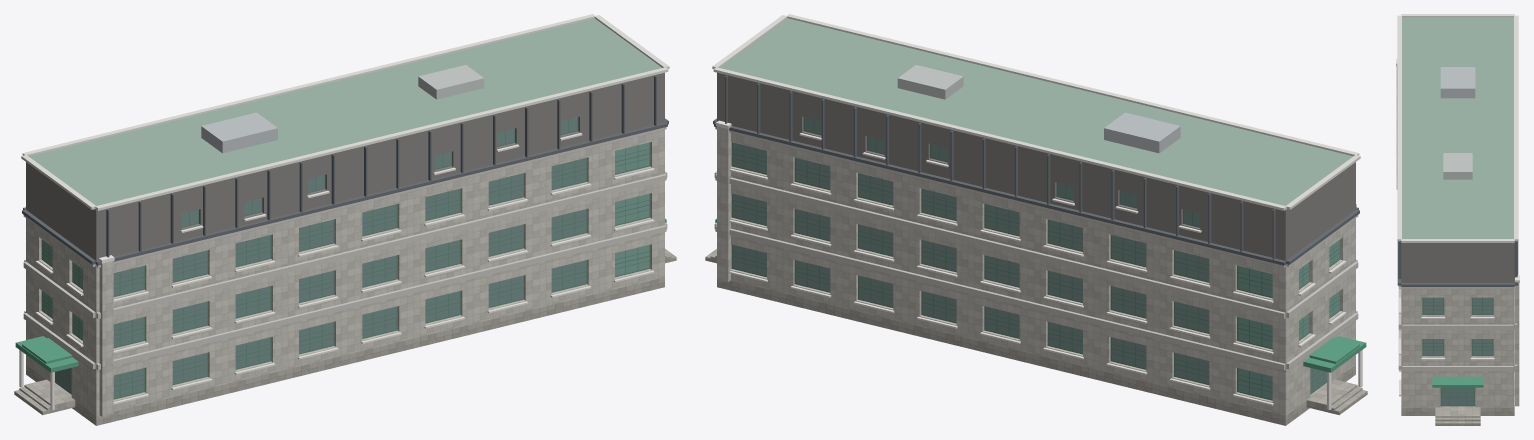
3 renders of one model, left to right at view 1: azimuth 30°, elevation 25°; view 2: azimuth 150°, elevation 25°; view 3: azimuth 270°, elevation 25°, orthographic. The views are drawn at different scales.
Parts seen in each view (by area): view 1: jiphyeon__granitepanel, jiphyeon__roof, jiphyeon__mansard, jiphyeon__glass, jiphyeon__greyband, jiphyeon__cap, jiphyeon__darkframe, jiphyeon__frame, jiphyeon__stone, jiphyeon__sill, jiphyeon__tealglass, jiphyeon__greenframe (+5 smaller); view 2: jiphyeon__granitepanel, jiphyeon__roof, jiphyeon__mansard, jiphyeon__sideglass, jiphyeon__greyband, jiphyeon__cap, jiphyeon__darkframe, jiphyeon__frame, jiphyeon__stone, jiphyeon__sill, jiphyeon__tealglass, jiphyeon__greenframe (+6 smaller); view 3: jiphyeon__roof, jiphyeon__granitepanel, jiphyeon__mansard, jiphyeon__cap, jiphyeon__greyband, jiphyeon__sideglass, jiphyeon__metalroof, jiphyeon__frame, jiphyeon__darkframe, jiphyeon__steel, jiphyeon__stone, jiphyeon__greencanopy (+5 smaller).
Boxes of the visible parts, x1,y1,x2,y2 form: jiphyeon__granitepanel: (26,129,664,416); jiphyeon__roof: (29,18,661,210); jiphyeon__mansard: (26,72,664,260); jiphyeon__glass: (55,117,585,398); jiphyeon__greyband: (23,127,667,370); jiphyeon__cap: (21,14,669,210); jiphyeon__darkframe: (22,75,668,265); jiphyeon__frame: (41,117,650,399); jiphyeon__stone: (26,277,664,425); jiphyeon__sill: (35,133,654,404); jiphyeon__tealglass: (42,142,649,339); jiphyeon__greenframe: (42,149,649,391); jiphyeon__granitepanel: (717,126,1355,415); jiphyeon__roof: (720,18,1352,210); jiphyeon__mansard: (717,72,1355,260); jiphyeon__sideglass: (732,142,1209,383); jiphyeon__greyband: (714,127,1358,370); jiphyeon__cap: (712,14,1360,210); jiphyeon__darkframe: (713,75,1359,265); jiphyeon__frame: (731,117,1340,400); jiphyeon__stone: (717,279,1355,425); jiphyeon__sill: (729,133,1346,405); jiphyeon__tealglass: (1238,240,1339,399); jiphyeon__greenframe: (732,149,1339,392); jiphyeon__roof: (1402,17,1513,238); jiphyeon__granitepanel: (1396,66,1519,407); jiphyeon__mansard: (1401,243,1514,282); jiphyeon__cap: (1397,14,1518,242); jiphyeon__greyband: (1398,285,1517,371); jiphyeon__sideglass: (1423,297,1492,355); jiphyeon__metalroof: (1440,67,1475,98); jiphyeon__frame: (1422,297,1493,406); jiphyeon__darkframe: (1397,241,1518,286); jiphyeon__steel: (1443,153,1472,179); jiphyeon__stone: (1401,407,1514,415); jiphyeon__greencanopy: (1432,376,1483,387).
Bounding box in the file's own units: 47.94 × 16.59 × 10.08.
Materials: 18 (2 with a texture image).
